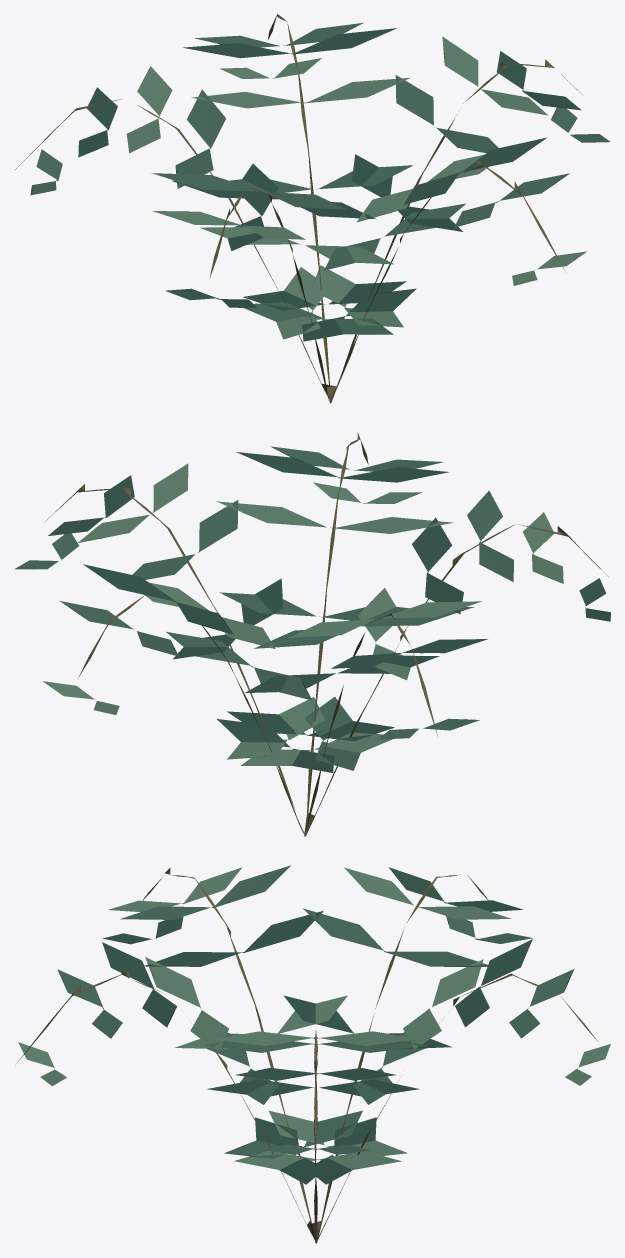
File: low.fern.a.glb
3 views of the same model, one above another, from view 1: azimuth 30°, elevation 25°; view 2: azimuth 150°, elevation 25°; view 3: azimuth 270°, elevation 25° (orthographic). The views are drawn at different scales.
Bounding box in the file's own units: 0.612 × 0.3417 × 0.6204.
